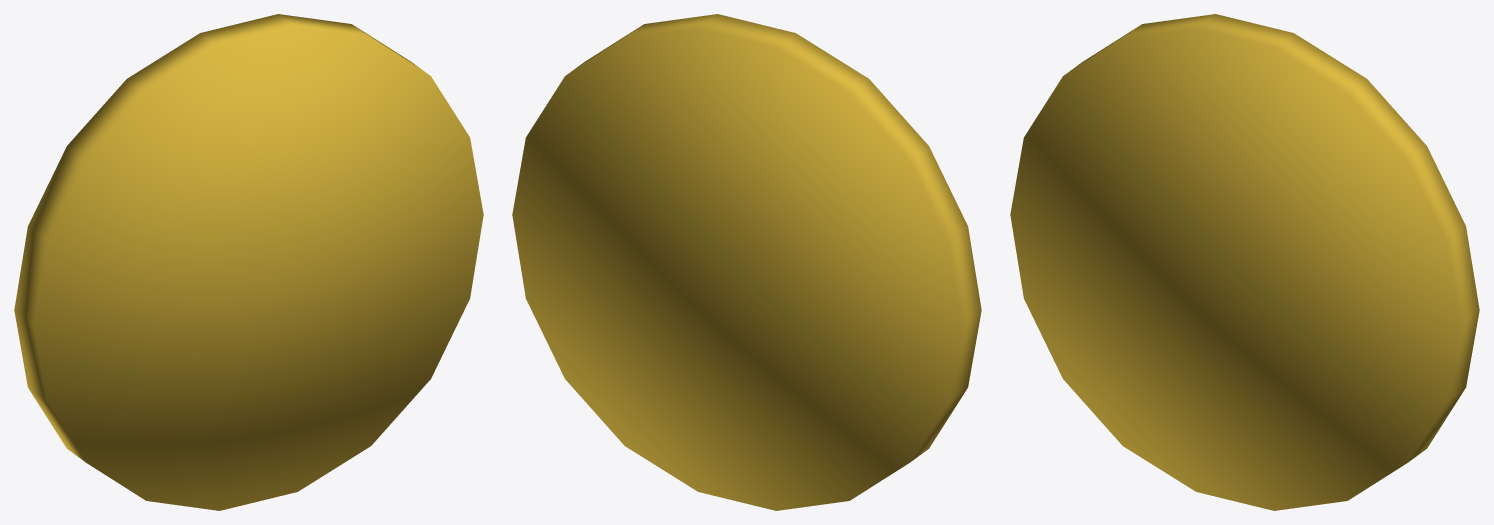
Rendered from link6_simple.obj.
The picture shows the model from 3 angles, left to right: view 1: azimuth 30°, elevation 25°; view 2: azimuth 150°, elevation 25°; view 3: azimuth 330°, elevation 25°; orthographic projection.
Bounding box in the file's own units: 73.2 × 72.09 × 5.5.
